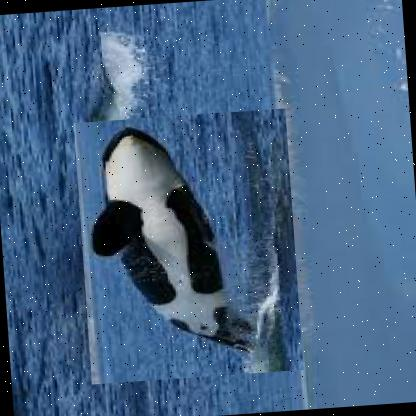killer_whale: (72, 107, 304, 384)
